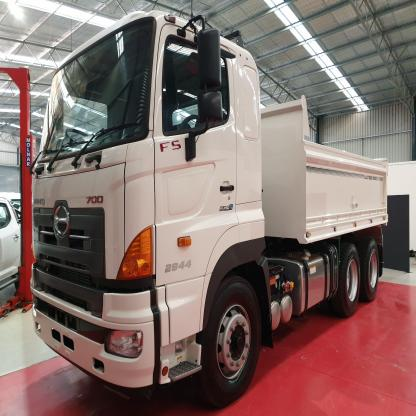dump_truck: (26, 6, 388, 414)
